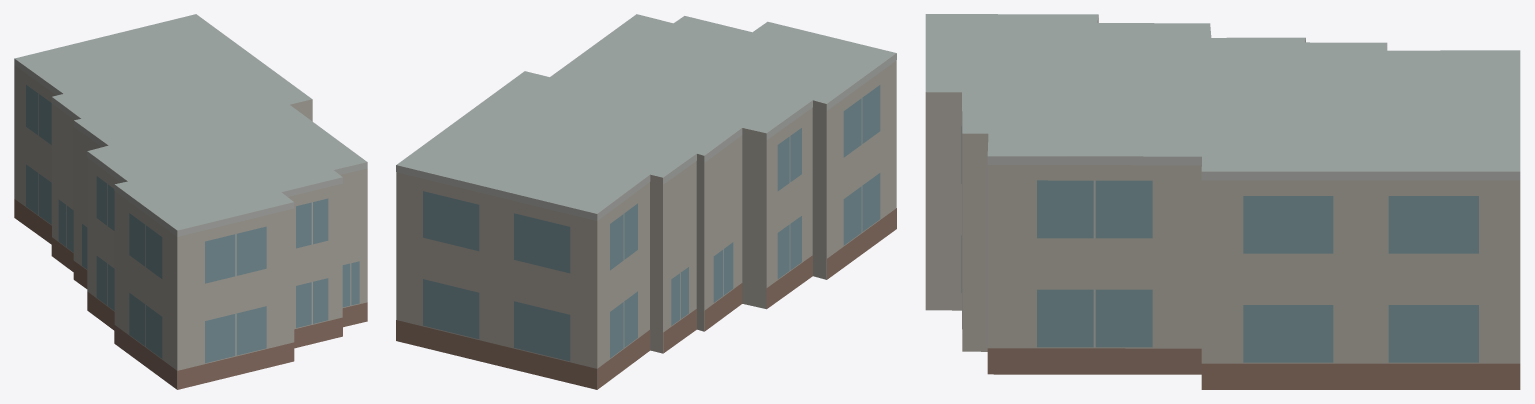
The model's file is survey-upis-32815220.glb.
The picture shows the model from 3 angles, left to right: view 1: azimuth 30°, elevation 25°; view 2: azimuth 150°, elevation 25°; view 3: azimuth 270°, elevation 25°; orthographic projection. The views are drawn at different scales.
Parts seen in each view (by area): view 1: survey-upis-32815220.tmp; view 2: survey-upis-32815220.tmp; view 3: survey-upis-32815220.tmp.
Part boxes in pixels (x1,y1,x2,y2): survey-upis-32815220.tmp: [14, 14, 367, 389]; survey-upis-32815220.tmp: [396, 14, 896, 389]; survey-upis-32815220.tmp: [925, 14, 1520, 389].
Size of the model in its own units: 9.47 by 6.1 by 15.09.
